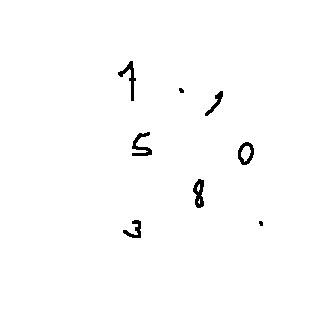.: (247, 215, 271, 235), (173, 78, 189, 100)
0: (235, 134, 268, 169)
1: (197, 87, 232, 119)
3: (117, 206, 151, 247)
5: (126, 131, 160, 168)
7: (115, 53, 143, 114)
8: (178, 169, 217, 212)
